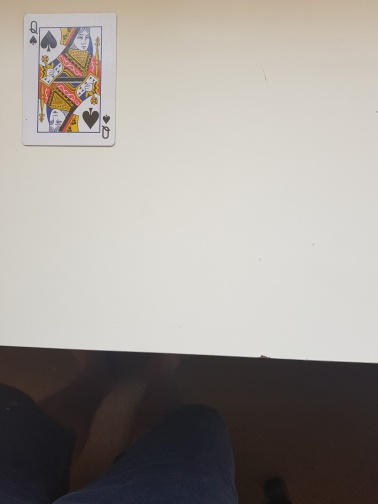queen: (22, 12, 118, 148)
